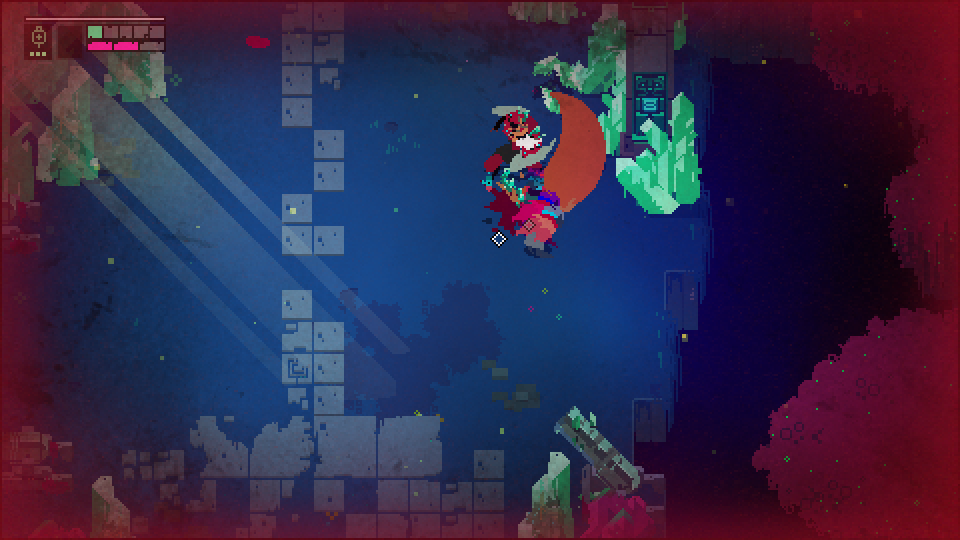hanged_man: (486, 90, 568, 190)
player: (519, 204, 564, 259)
